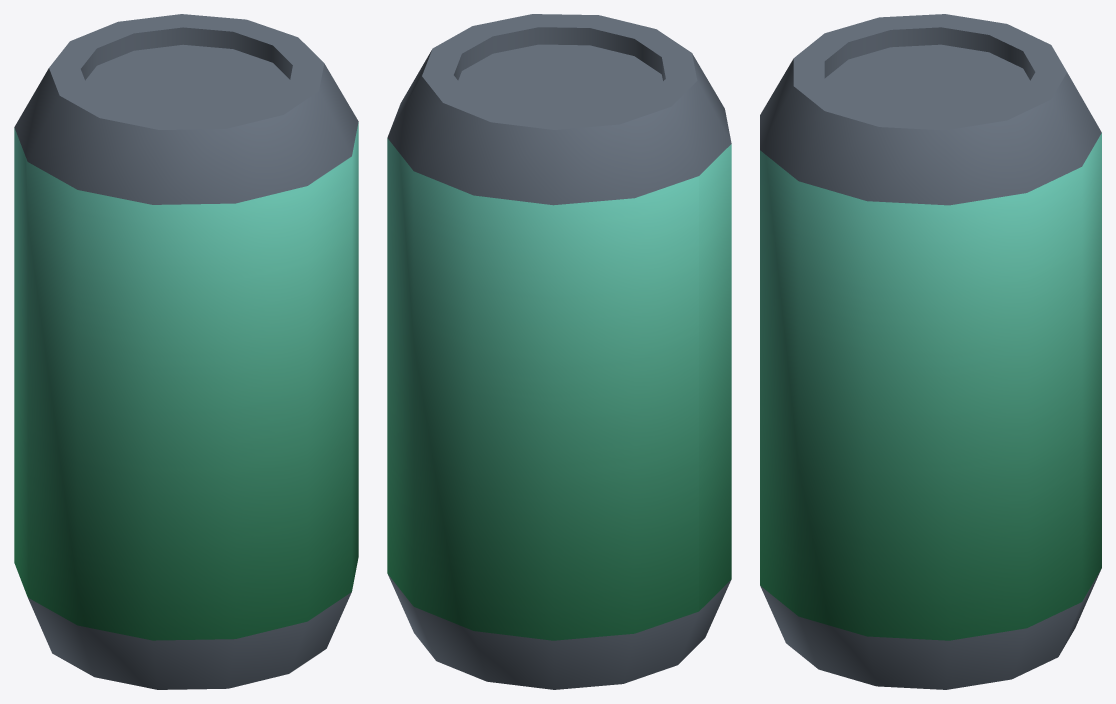
Rendered from EnergyCan_02.fbx.
3 views of the same model, side by side, from view 1: azimuth 30°, elevation 25°; view 2: azimuth 150°, elevation 25°; view 3: azimuth 270°, elevation 25° (orthographic).
Parts seen in each view (by area): view 1: Can.001; view 2: Can.001; view 3: Can.001.
Part boxes in pixels (<box>): Can.001: <box>14,14,358,689</box>; Can.001: <box>387,14,731,689</box>; Can.001: <box>760,14,1101,689</box>.
Bounding box in the file's own units: 4.34 × 7.73 × 4.31.
